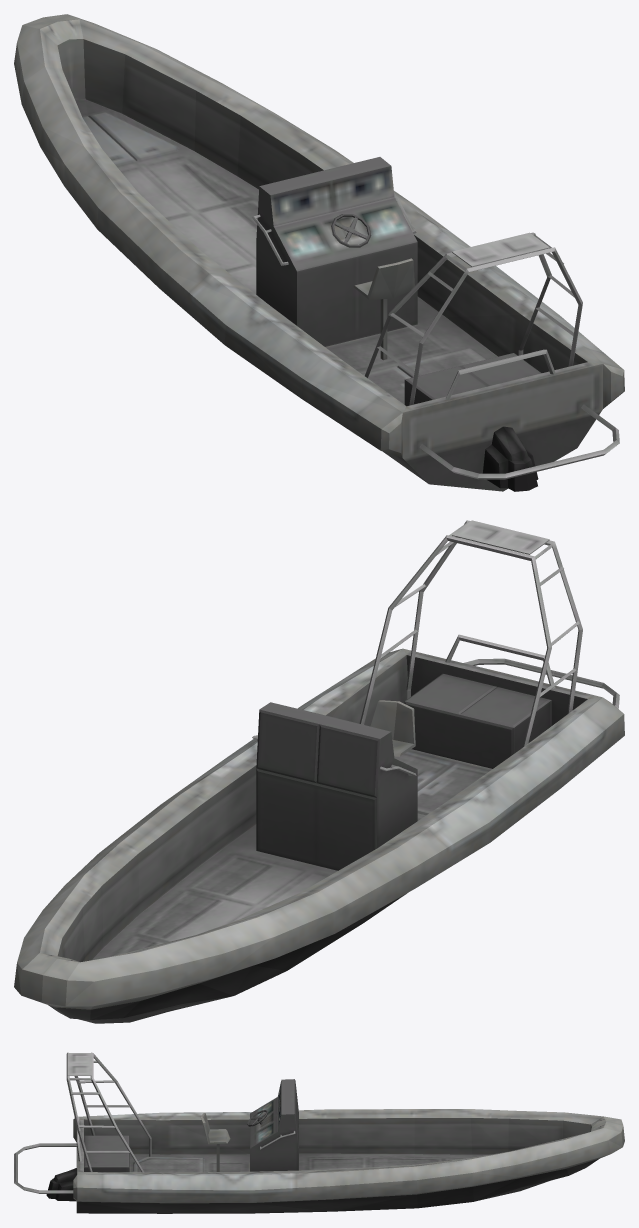
Rendered from RIB.DAE.
3 renders of one model, top to bottom at view 1: azimuth 30°, elevation 25°; view 2: azimuth 150°, elevation 25°; view 3: azimuth 270°, elevation 25°, orthographic. The views are drawn at different scales.
Visible parts, largest first — view 1: hull; view 2: hull; view 3: hull.
Boxes of the visible parts, box(x1,y1,x2,y2) form: hull: box(14, 14, 624, 491); hull: box(14, 520, 624, 1023); hull: box(14, 1052, 624, 1213).
Bounding box in the file's own units: 2.81 × 2.43 × 9.41.
Materials: 1 (1 with a texture image).
